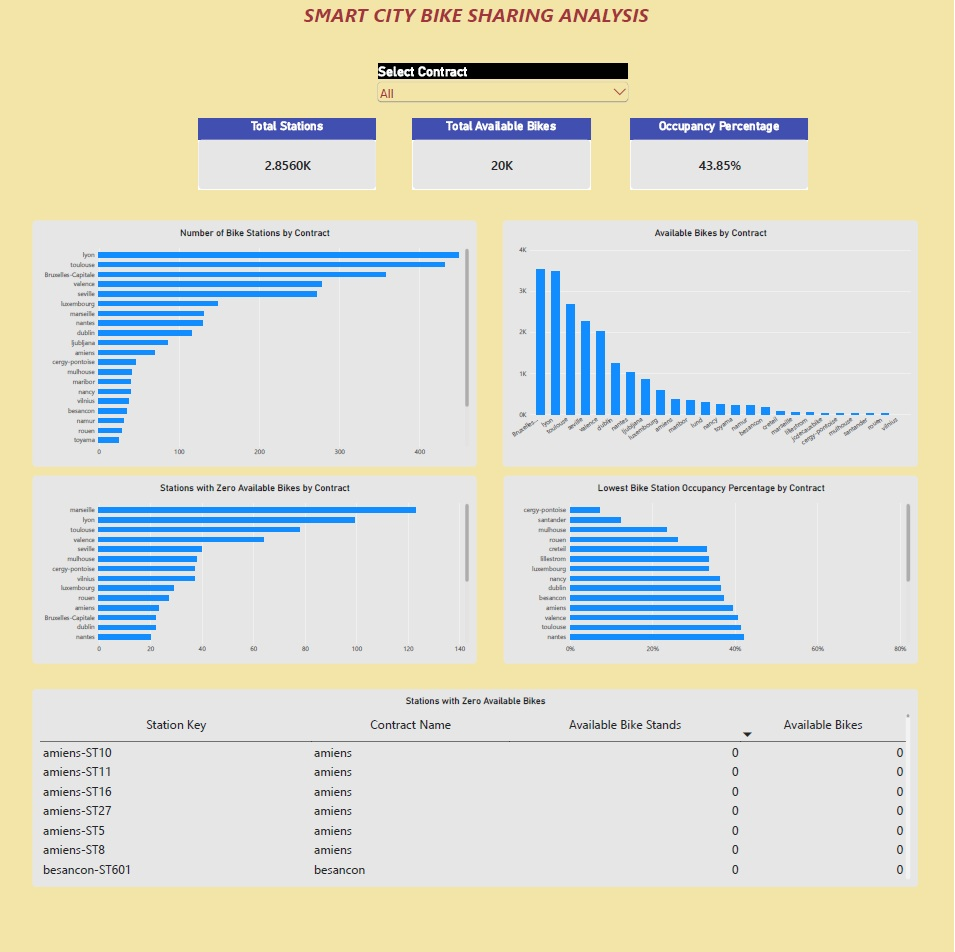

What the dashboard file says about the page in this screenshot:
{"tool":"powerbi","page":{"name":"Page 4","canvas":[2100,2100],"ordinal":3},"visuals":[{"type":"textbox","box":[578,0,942.5,83.8],"z":0},{"type":"slicer","fields":{"Values":["Dim_Contract.Contract Name"]},"box":[826,138,564,98],"z":1},{"type":"cardVisual","title":"Total Stations","fields":{"Data":["Fact_Bike Station.Total Stations"]},"box":[438,260,390,155],"z":2},{"type":"cardVisual","title":"Total Available Bikes","fields":{"Data":["Fact_Bike Station.Total Available Bikes"]},"box":[910,260,390,155],"z":3},{"type":"cardVisual","title":"Occupancy Percentage","fields":{"Data":["Fact_Bike Station.Occupancy Percentage"]},"box":[1390,260,390,155],"z":4},{"type":"clusteredBarChart","title":"Number of Bike Stations by Contract","fields":{"Category":["Fact_Bike Station.Contract Name"],"Y":["Fact_Bike Station.Total Stations"]},"box":[72,484,978,542],"z":5},{"type":"clusteredColumnChart","title":"Available Bikes by Contract","fields":{"Category":["Fact_Bike Station.Contract Name"],"Y":["Fact_Bike Station.Total Available Bikes"]},"box":[1108,484,914,542],"z":6},{"type":"clusteredBarChart","title":"Stations with Zero Available Bikes by Contract","fields":{"Category":["Dim_Contract.Contract Name"],"Y":["Count(Fact_Bike Station.Station Key)"]},"box":[72,1046,978,414],"z":7},{"type":"clusteredBarChart","title":"Lowest Bike Station Occupancy Percentage by Contract","fields":{"Category":["Dim_Contract.Contract Name"],"Y":["Fact_Bike Station.Station Occupancy %"]},"box":[1110,1046,912,414],"z":8},{"type":"tableEx","title":"Stations with Zero Available Bikes","fields":{"Values":["Fact_Bike Station.Station Key","Fact_Bike Station.Contract Name","Fact_Bike Station.Available Bike Stands","Fact_Bike Station.Available Bikes"]},"box":[72,1516,1950,436],"z":9}]}

Visuals, with their boxes in screenshot pixels (x1, y1, x2, y2), scaled from the page's 2100x2100 canvas onto the 955x952 screenshot:
textbox: pyautogui.locateOnScreen(263, 0, 691, 38)
slicer - Dim_Contract.Contract Name: pyautogui.locateOnScreen(376, 63, 632, 107)
"Total Stations" cardVisual: pyautogui.locateOnScreen(199, 118, 377, 188)
"Total Available Bikes" cardVisual: pyautogui.locateOnScreen(414, 118, 591, 188)
"Occupancy Percentage" cardVisual: pyautogui.locateOnScreen(632, 118, 809, 188)
"Number of Bike Stations by Contract" clusteredBarChart: pyautogui.locateOnScreen(33, 219, 478, 465)
"Available Bikes by Contract" clusteredColumnChart: pyautogui.locateOnScreen(504, 219, 920, 465)
"Stations with Zero Available Bikes by Contract" clusteredBarChart: pyautogui.locateOnScreen(33, 474, 478, 662)
"Lowest Bike Station Occupancy Percentage by Contract" clusteredBarChart: pyautogui.locateOnScreen(505, 474, 920, 662)
"Stations with Zero Available Bikes" tableEx: pyautogui.locateOnScreen(33, 687, 920, 885)
